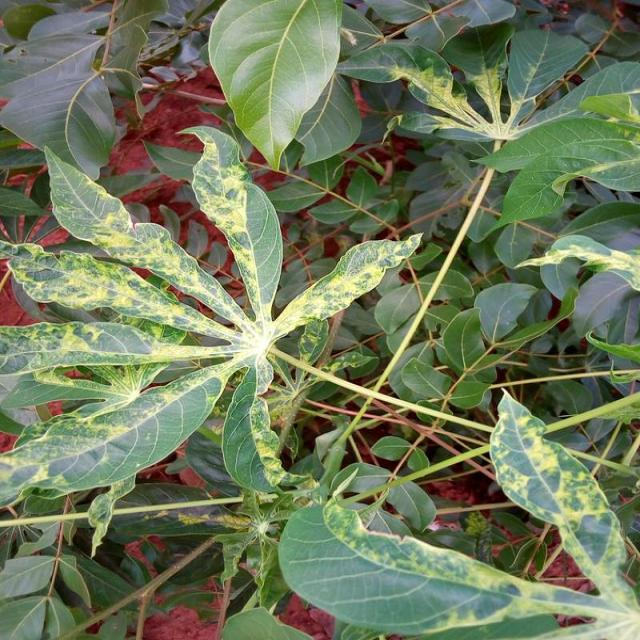cassava leaf: (0, 0, 638, 637), (207, 0, 343, 172)
